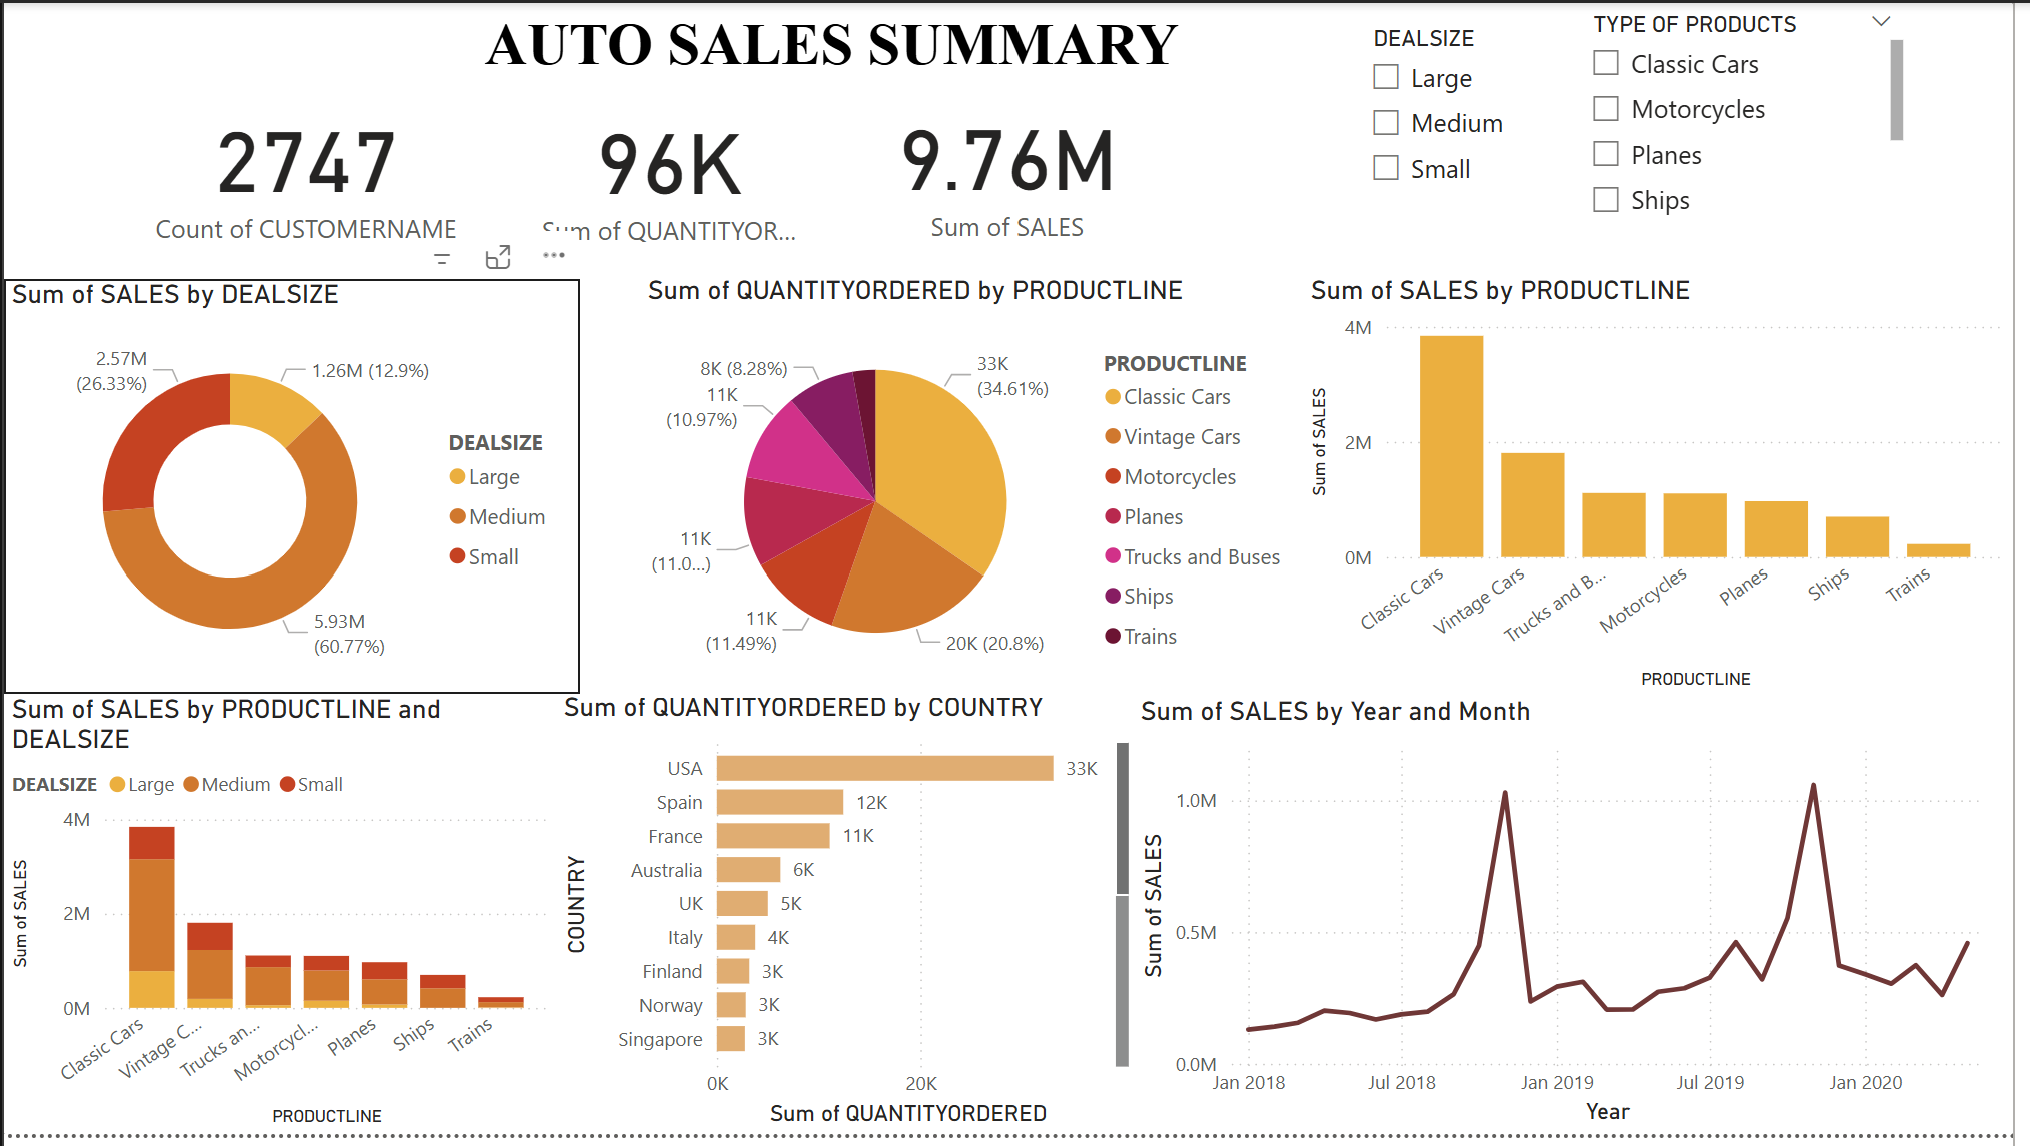

Layout of this report page (visuals, bound fields, positions):
{"tool":"powerbi","page":{"name":"Page 1","canvas":[1280,720],"ordinal":0},"visuals":[{"type":"columnChart","fields":{"Category":["Auto Sales data.PRODUCTLINE"],"Y":["Sum(Auto Sales data.SALES)"],"Series":["Auto Sales data.DEALSIZE"]},"box":[0,439.4,352.2,280.2],"z":0},{"type":"clusteredBarChart","fields":{"Category":["Auto Sales data.COUNTRY"],"Y":["Sum(Auto Sales data.QUANTITYORDERED)"]},"box":[351.9,438.7,369.3,281.3],"z":1000},{"type":"lineChart","fields":{"Category":["Auto Sales data.ORDERDATE.Variation.Date Hierarchy.Year","Auto Sales data.ORDERDATE.Variation.Date Hierarchy.Month"],"Y":["Sum(Auto Sales data.SALES)"]},"box":[719,441.1,561,277.9],"z":2000},{"type":"pieChart","fields":{"Category":["Auto Sales data.PRODUCTLINE"],"Y":["Sum(Auto Sales data.QUANTITYORDERED)"]},"box":[405.4,173.4,422,269],"z":4000},{"type":"card","fields":{"Values":["Sum(Auto Sales data.SALES)"]},"box":[541.8,51,195.1,105.8],"z":5000},{"type":"card","fields":{"Values":["Sum(Auto Sales data.QUANTITYORDERED)"]},"box":[334,52.3,179.8,108.4],"z":6000},{"type":"textbox","box":[0,0,1054.3,66.3],"z":7000},{"type":"slicer","fields":{"Values":["Auto Sales data.PRODUCTLINE"]},"box":[999.5,0,215.5,142.8],"z":8000},{"type":"donutChart","fields":{"Series":["Auto Sales data.DEALSIZE"],"Y":["Sum(Auto Sales data.SALES)"]},"box":[0,175.9,367.2,263.9],"z":9000},{"type":"card","fields":{"Values":["CountNonNull(Auto Sales data.CUSTOMERNAME)"]},"box":[70.1,52.3,244.8,105.8],"z":10000},{"type":"columnChart","fields":{"Y":["Sum(Auto Sales data.SALES)"],"Category":["Auto Sales data.PRODUCTLINE"]},"box":[827.4,173.4,452.6,267.7],"z":10001},{"type":"slicer","fields":{"Values":["Auto Sales data.DEALSIZE"]},"box":[859.3,8.9,126.2,118.6],"z":10002}]}

Visuals, with their boxes in screenshot pixels (x1, y1, x2, y2), scaled from the page's 1280x720 canvas onto the 2030x1146 screenshot:
columnChart - Auto Sales data.PRODUCTLINE x Sum(Auto Sales data.SALES): {"left": 0, "top": 699, "right": 559, "bottom": 1145}
clusteredBarChart - Auto Sales data.COUNTRY x Sum(Auto Sales data.QUANTITYORDERED): {"left": 558, "top": 698, "right": 1144, "bottom": 1145}
lineChart - Auto Sales data.ORDERDATE.Variation.Date Hierarchy.Year x Auto Sales data.ORDERDATE.Variation.Date Hierarchy.Month: {"left": 1140, "top": 702, "right": 2029, "bottom": 1144}
pieChart - Auto Sales data.PRODUCTLINE x Sum(Auto Sales data.QUANTITYORDERED): {"left": 643, "top": 276, "right": 1312, "bottom": 704}
card - Sum(Auto Sales data.SALES): {"left": 859, "top": 81, "right": 1169, "bottom": 250}
card - Sum(Auto Sales data.QUANTITYORDERED): {"left": 530, "top": 83, "right": 815, "bottom": 256}
textbox: {"left": 0, "top": 0, "right": 1672, "bottom": 106}
slicer - Auto Sales data.PRODUCTLINE: {"left": 1585, "top": 0, "right": 1927, "bottom": 227}
donutChart - Auto Sales data.DEALSIZE x Sum(Auto Sales data.SALES): {"left": 0, "top": 280, "right": 582, "bottom": 700}
card - CountNonNull(Auto Sales data.CUSTOMERNAME): {"left": 111, "top": 83, "right": 499, "bottom": 252}
columnChart - Sum(Auto Sales data.SALES) x Auto Sales data.PRODUCTLINE: {"left": 1312, "top": 276, "right": 2029, "bottom": 702}
slicer - Auto Sales data.DEALSIZE: {"left": 1363, "top": 14, "right": 1563, "bottom": 203}
